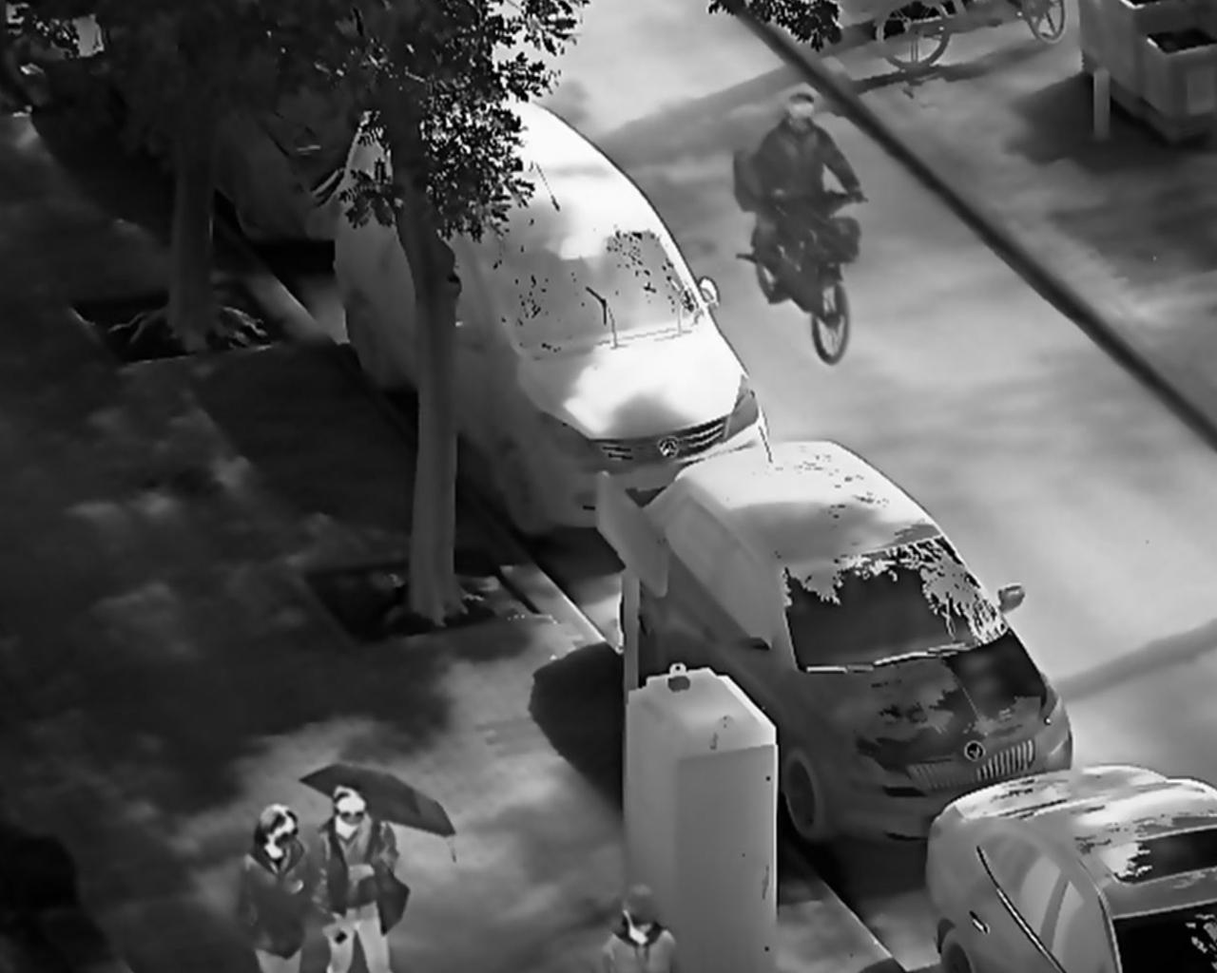person: (755, 80, 873, 302), (314, 783, 415, 973), (237, 799, 320, 973)
